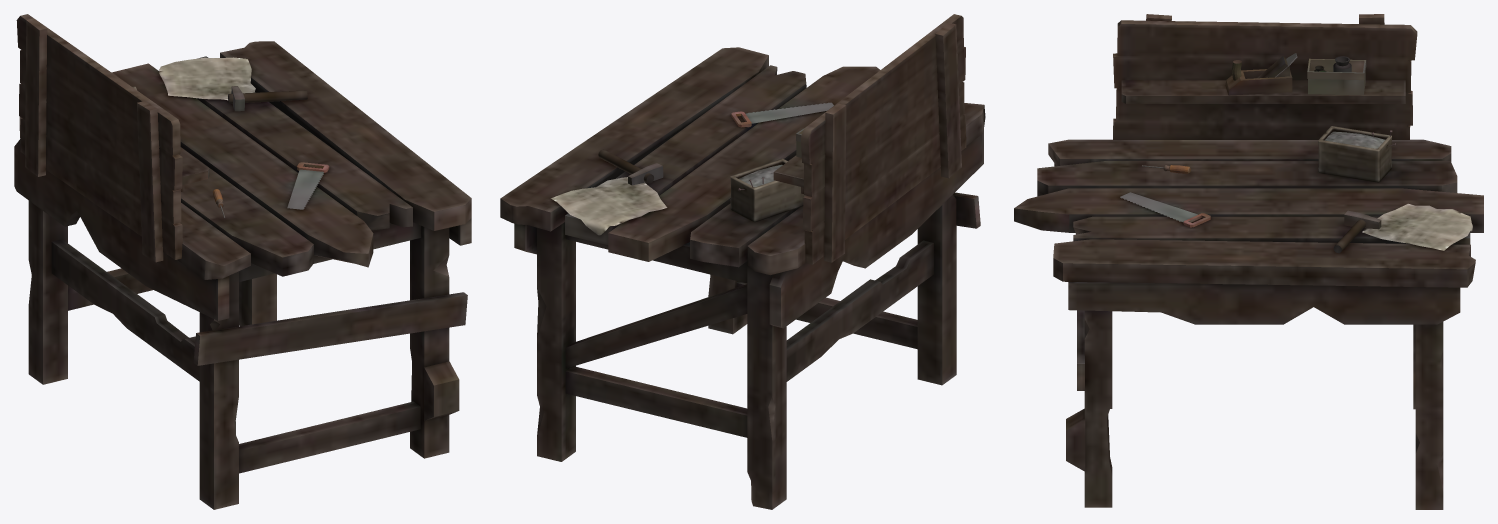
The model's file is SM_WorkBenchPrimitive_0f9f7d.glb.
The picture shows the model from 3 angles, left to right: view 1: azimuth 30°, elevation 25°; view 2: azimuth 150°, elevation 25°; view 3: azimuth 270°, elevation 25°; orthographic projection. The views are drawn at different scales.
Bounding box in the file's own units: 1.14 × 1.44 × 1.65.
Materials: 2 (2 with a texture image).
